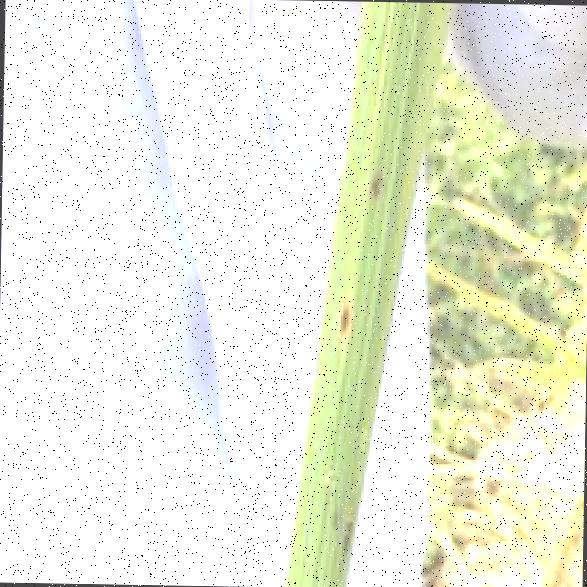Brown_Spot: (329, 278, 360, 337), (328, 486, 358, 546), (363, 156, 377, 193)
